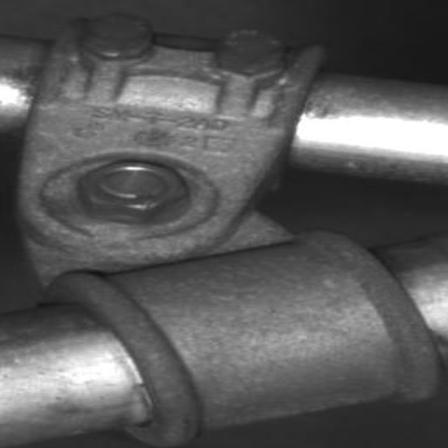nut: (71, 157, 197, 224)
screw2: (218, 25, 289, 79), (84, 11, 155, 64)
